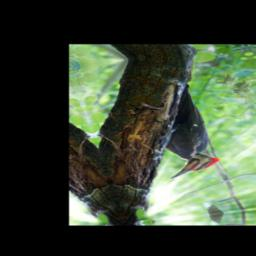Woodpecker: (137, 82, 226, 180)
